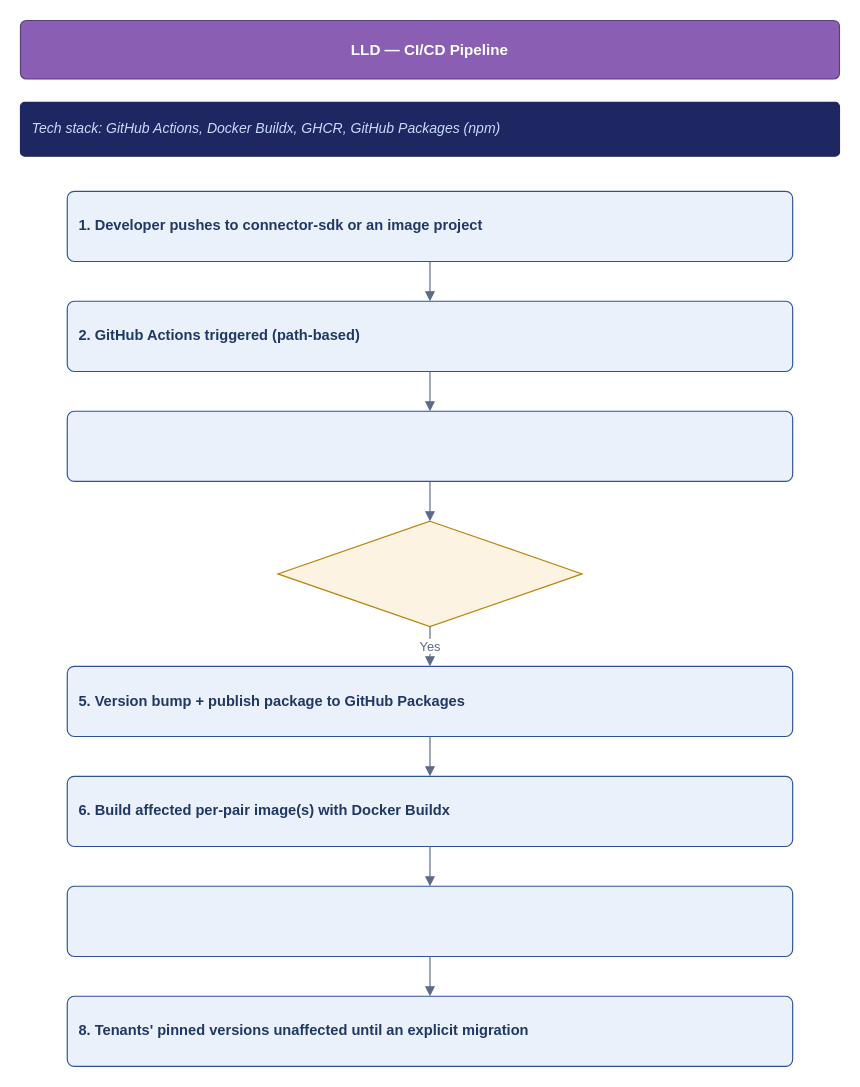
Some shapes in this 860 by 1087 pixel diagram are drawn without their labels. The centre of each missing label's shape, as x and y in pixels:
3. Run tests / lint: point (429, 445)
7. Push image tagged with git-sha (+ latest for dev) to GHCR: point (429, 920)
Change touches connector-sdk?: point (429, 573)
